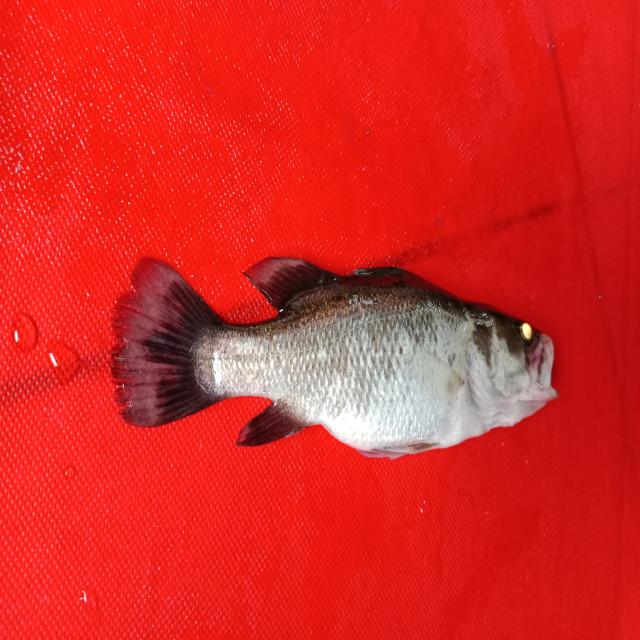ikan: (101, 213, 574, 481)
